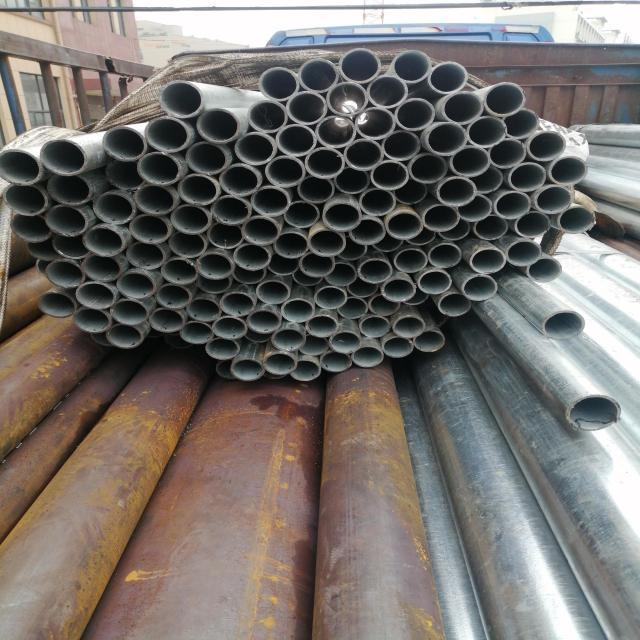pipe: (562, 392, 622, 436), (40, 138, 88, 176), (142, 115, 191, 152), (160, 79, 204, 119), (100, 124, 147, 161), (0, 147, 42, 186), (216, 164, 262, 198), (338, 48, 382, 83), (185, 142, 230, 176), (541, 308, 586, 342), (274, 122, 316, 158), (195, 108, 239, 142), (131, 183, 176, 216), (8, 211, 54, 243), (104, 158, 150, 190), (136, 152, 182, 184), (296, 58, 338, 93), (47, 172, 90, 206), (285, 91, 328, 125), (326, 82, 369, 116), (247, 185, 291, 218), (0, 184, 48, 214), (258, 66, 298, 102), (380, 128, 422, 162), (448, 144, 490, 178), (43, 204, 86, 237), (177, 173, 220, 206), (247, 99, 290, 132), (313, 115, 356, 148), (483, 82, 526, 115), (128, 213, 170, 246), (43, 257, 86, 289), (233, 133, 276, 165), (354, 107, 397, 139), (80, 226, 124, 257), (264, 155, 306, 187), (303, 148, 345, 180), (424, 122, 466, 154), (406, 152, 448, 184), (91, 192, 134, 223), (168, 204, 212, 234), (343, 140, 384, 172), (426, 62, 467, 94), (440, 91, 482, 122), (238, 216, 281, 246), (394, 98, 434, 130), (391, 50, 431, 82), (526, 130, 566, 162), (122, 240, 166, 269), (322, 201, 364, 231), (437, 176, 477, 207), (467, 116, 507, 147), (36, 290, 76, 320), (212, 196, 252, 226), (232, 242, 272, 272), (368, 160, 408, 190), (533, 184, 573, 214), (492, 188, 532, 218), (423, 203, 461, 234), (101, 323, 145, 349), (308, 229, 346, 259), (349, 216, 387, 246), (558, 206, 596, 236), (76, 282, 116, 310), (52, 232, 92, 260), (166, 230, 206, 258), (205, 222, 245, 250), (194, 252, 234, 280), (296, 176, 336, 204), (468, 246, 508, 274), (504, 107, 539, 139), (549, 156, 589, 184), (489, 138, 526, 168), (513, 210, 550, 240), (82, 256, 121, 284), (218, 290, 257, 318), (506, 238, 542, 268), (110, 298, 148, 326), (360, 188, 398, 216), (509, 164, 547, 192), (159, 257, 198, 284), (244, 308, 283, 335), (527, 256, 564, 284), (184, 297, 222, 324), (456, 193, 494, 220), (72, 308, 111, 334), (147, 308, 186, 334), (282, 200, 318, 228), (152, 283, 192, 308), (116, 272, 154, 298), (192, 270, 230, 296), (427, 241, 462, 269), (473, 212, 508, 240), (260, 349, 296, 376), (254, 280, 291, 306), (331, 168, 368, 194), (273, 231, 308, 258), (320, 262, 356, 288), (416, 270, 452, 296), (271, 327, 308, 352), (180, 319, 214, 346), (358, 257, 392, 284), (210, 316, 248, 340), (204, 336, 242, 360), (463, 274, 498, 300), (230, 359, 266, 384), (277, 298, 314, 322), (315, 348, 352, 372), (27, 236, 62, 261), (287, 358, 322, 383), (437, 292, 472, 317), (230, 260, 266, 284), (264, 253, 300, 277), (298, 252, 334, 276), (313, 284, 346, 310), (437, 216, 470, 242), (392, 314, 425, 340), (328, 330, 363, 354), (392, 179, 427, 203), (394, 248, 427, 273), (472, 167, 505, 192), (350, 344, 386, 366), (305, 315, 339, 338), (357, 316, 391, 339), (336, 296, 368, 320), (214, 354, 240, 382), (334, 238, 367, 260), (382, 336, 414, 358), (298, 334, 329, 356), (414, 330, 444, 352), (348, 277, 379, 298), (86, 328, 120, 347), (406, 226, 438, 246), (241, 328, 274, 347), (292, 268, 323, 288), (373, 235, 402, 253), (404, 287, 429, 307), (34, 256, 56, 277)
